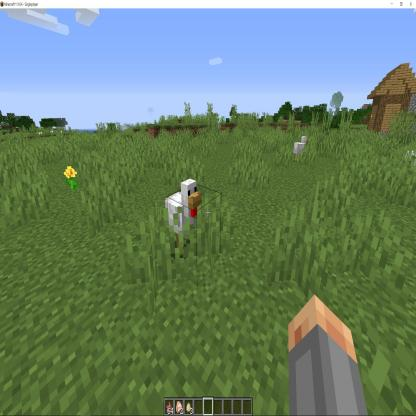minecraft-pigs: (160, 171, 205, 257), (292, 134, 310, 168)
